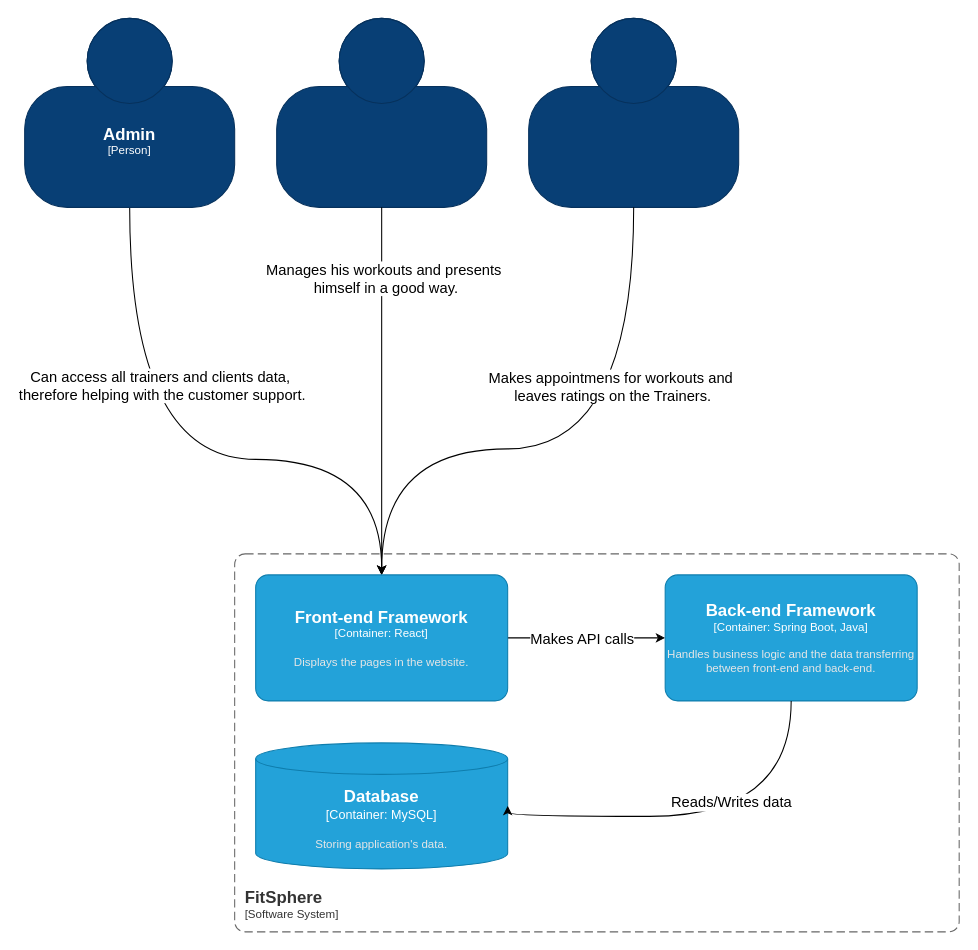
This 978x950 diagram has some shape labels left out. The shapes that lost their labels are listed below. From the top down, each one's centre as x and y in pixels, then its label:
At point 381,112: "Trainer [Person] User looking to host his workouts and make them more popular.".
At point 633,112: "Client [Person] User looking for workouts to enroll in.".
